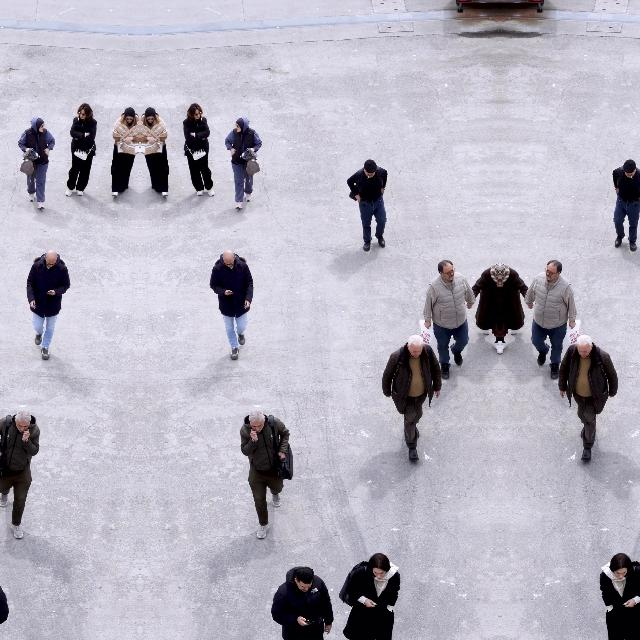person: (382, 334, 442, 462), (558, 334, 618, 462), (239, 410, 293, 540), (422, 260, 476, 380), (524, 260, 578, 380), (338, 552, 402, 640), (0, 410, 41, 540), (210, 248, 254, 359), (26, 248, 70, 359), (270, 566, 334, 640), (346, 160, 388, 252), (598, 552, 640, 639), (225, 117, 263, 211), (17, 117, 55, 211), (183, 103, 215, 197), (65, 103, 97, 197), (140, 106, 170, 198), (110, 106, 140, 198), (611, 159, 640, 252), (472, 262, 501, 354), (499, 262, 528, 354), (0, 566, 9, 640)
